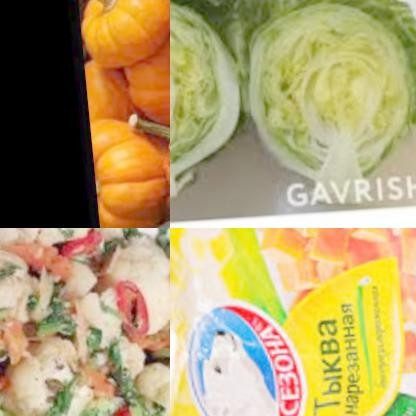cayliflower: (87, 237, 170, 354), (1, 340, 93, 416), (0, 228, 136, 270), (0, 228, 42, 364), (118, 342, 170, 416)
pumpkin: (223, 228, 416, 327), (81, 108, 169, 228), (71, 0, 170, 73), (115, 30, 170, 133), (78, 53, 138, 138), (377, 331, 416, 382)
salad: (215, 0, 416, 202), (170, 0, 248, 200)
